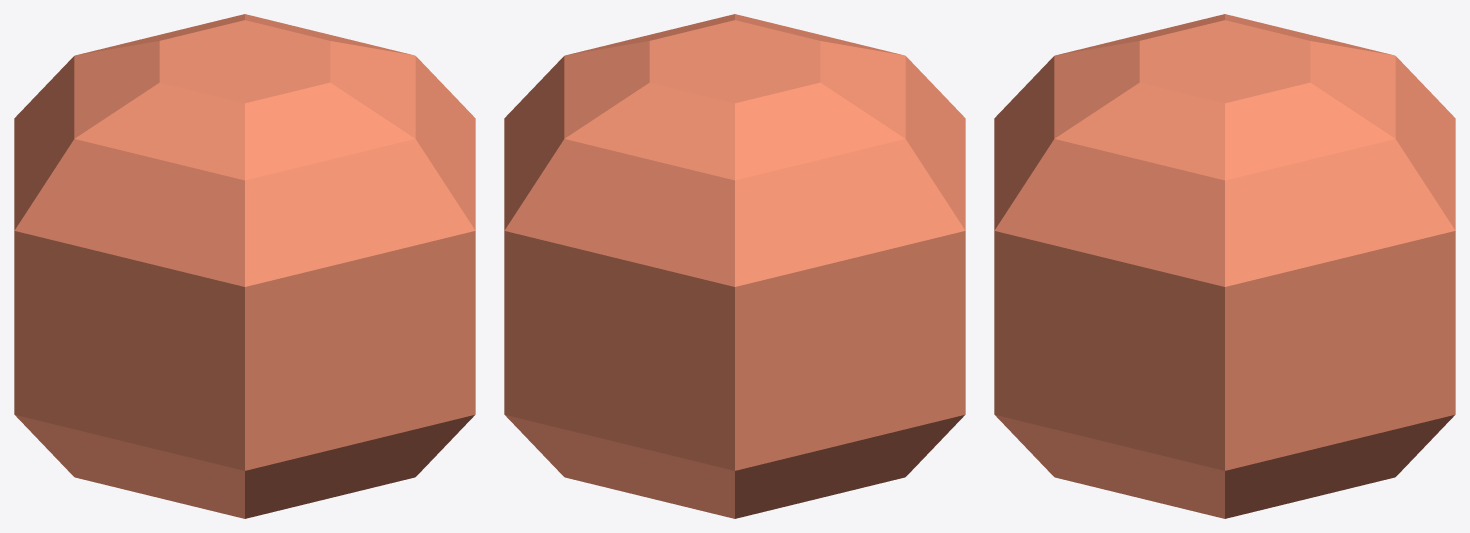
Rendered from k-meteor.glb.
3 renders of one model, left to right at view 1: azimuth 30°, elevation 25°; view 2: azimuth 150°, elevation 25°; view 3: azimuth 270°, elevation 25°, orthographic.
Visible parts, largest first — view 1: meteor; view 2: meteor; view 3: meteor.
Boxes of the visible parts, x1,y1,x2,y2 form: meteor: (14, 14, 475, 518); meteor: (504, 14, 965, 518); meteor: (994, 14, 1455, 518).
Size of the model in its own units: 0.866 by 0.735 by 0.75.
